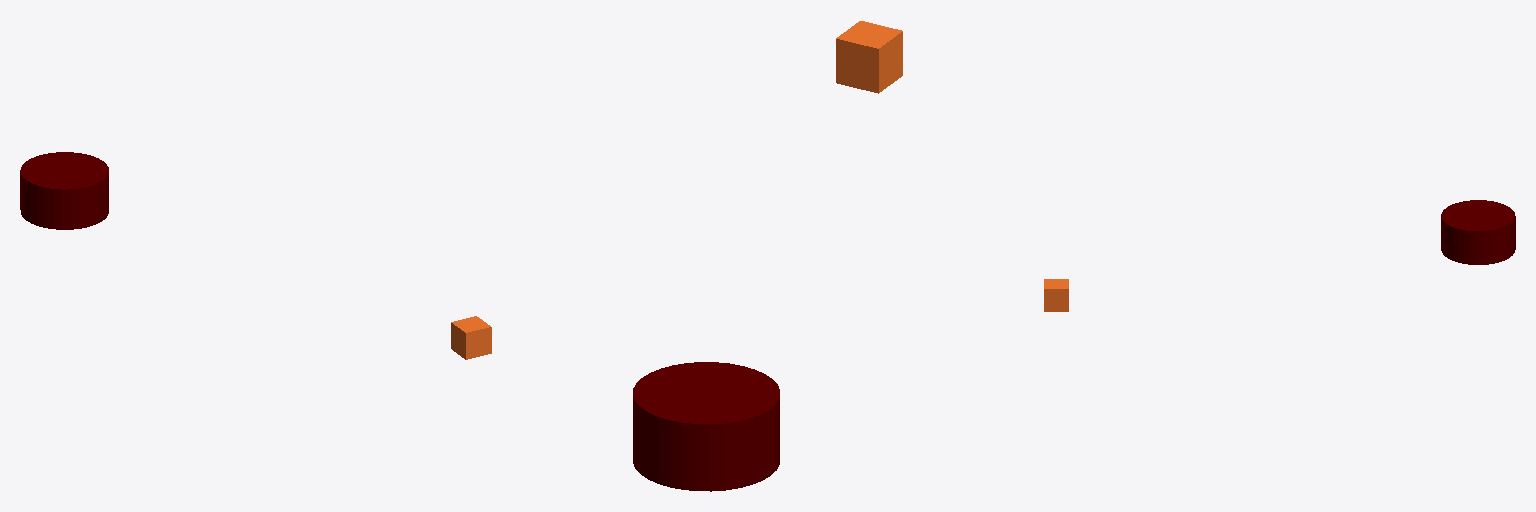
The robot description file, URDF, robot "km_dolly":
<robot name="km_dolly">
  <material name="orange">
    <color rgba="1.0 0.5 0.2 1" />
  </material>
  <material name="gray">
    <color rgba="0.7 0.7 0.7 1" />
  </material>
  <material name="red">
    <color rgba="0.4 0 0 1" />
  </material>
  <link name="imu_link">
    <visual>
      <origin xyz="0 0 0" rpy="0 0 0"/>
      <geometry>
        <box size="0.02 0.02 0.02" />
      </geometry>
      <material name="orange" />
    </visual>
  </link>

  <link name="horizontal_laser_link">
    <visual>
      <origin xyz="0 0 0" rpy="0 0 0"/>
      <geometry>
        <cylinder length="0.03" radius="0.03" />
      </geometry>
      <material name="red" />
    </visual>
  </link>

  <link name="base_link">
    <visual>
      <geometry>
        <mesh filename="package://km_dolly/stl/rescaled_dolly.stl" />
      </geometry>
      <origin xyz="0 0 0" rpy="0 0 0"/>
      <material name="gray" />
    </visual>
  </link>

  <joint name="imu_link_joint" type="fixed">
    <parent link="base_link" />
    <child link="imu_link" />
    <origin xyz="0.12 0 0" />
  </joint>

  <joint name="horizontal_laser_link_joint" type="fixed">
    <parent link="base_link" />
    <child link="horizontal_laser_link" />
    <origin xyz="0 0.34 0" rpy="0 0 0"/>
  </joint>

  <link name="right_wheel">
    <geometry>
      <mesh filename="package://km_dolly/stl/Keigan_Dolly_Wheel_R.stl" />
    </geometry>
    <origin xyz="0 0 0" rpy="0 0 0"/>
    <material name="gray" />
    <!--<geometry>
      <cylinder length="0.03" radius="0.0597" />
    </geometry>-->
  </link>
  <link name="left_wheel">
    <geometry>
      <cylinder length="0.03" radius="0.0597" />
    </geometry>
  </link>
  <joint name="right_wheel_joint" type="continuous">
    <parent link="base_link" />
    <child link="right_wheel" />
    <origin xyz="0 0.0425 0.02215" rpy="1.57 0 0"/>
    <axis xyz="0 0 1"/>
  </joint>
  <joint name="left_wheel_joint" type="continuous">
    <parent link="base_link" />
    <child link="left_wheel" />
    <origin xyz="0 0.0425 0.02215" rpy="-1.57 0 0"/>
    <axis xyz="0 0 1"/>
  </joint>

</robot>

--- Facts derived from the render (not from the file) ---
Views: 3 orthographic renders of the robot side by side, from view 1: azimuth 30°, elevation 25°; view 2: azimuth 150°, elevation 25°; view 3: azimuth 270°, elevation 25°.
Model km_dolly with 5 links and 4 joints (2 continuous, 2 fixed), rooted at base_link, posed every joint at zero.
Visible links, largest first — view 1: horizontal_laser_link, imu_link; view 2: horizontal_laser_link, imu_link; view 3: horizontal_laser_link, imu_link.
Link boxes in pixels (x1,y1,x2,y2): horizontal_laser_link: (20,152,108,229); imu_link: (451,316,491,359); horizontal_laser_link: (633,362,779,491); imu_link: (836,21,902,93); horizontal_laser_link: (1441,200,1515,264); imu_link: (1044,279,1068,311).
Bounding box of the posed robot: 0.16 × 0.38 × 0.03 m (x, y, z).
Meshes: 1 distinct files referenced, 0 mesh visuals loaded (none loaded); not drawn: 1 (reference not matched to a file when rendering).
